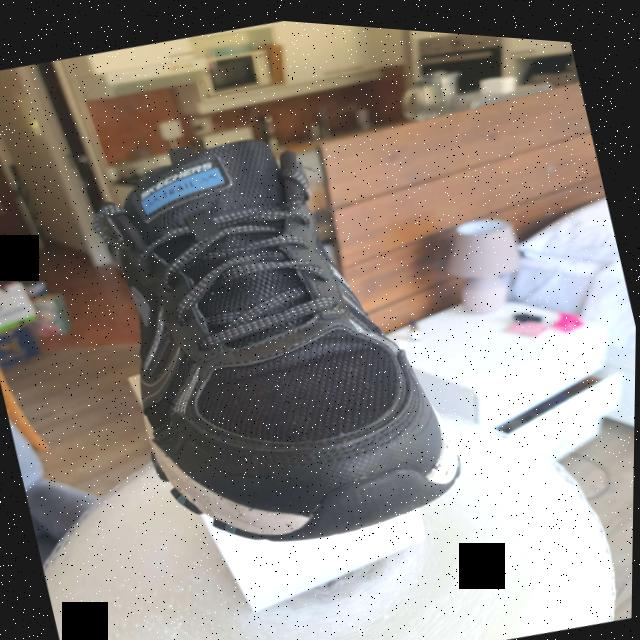shoes: (74, 89, 482, 580)
